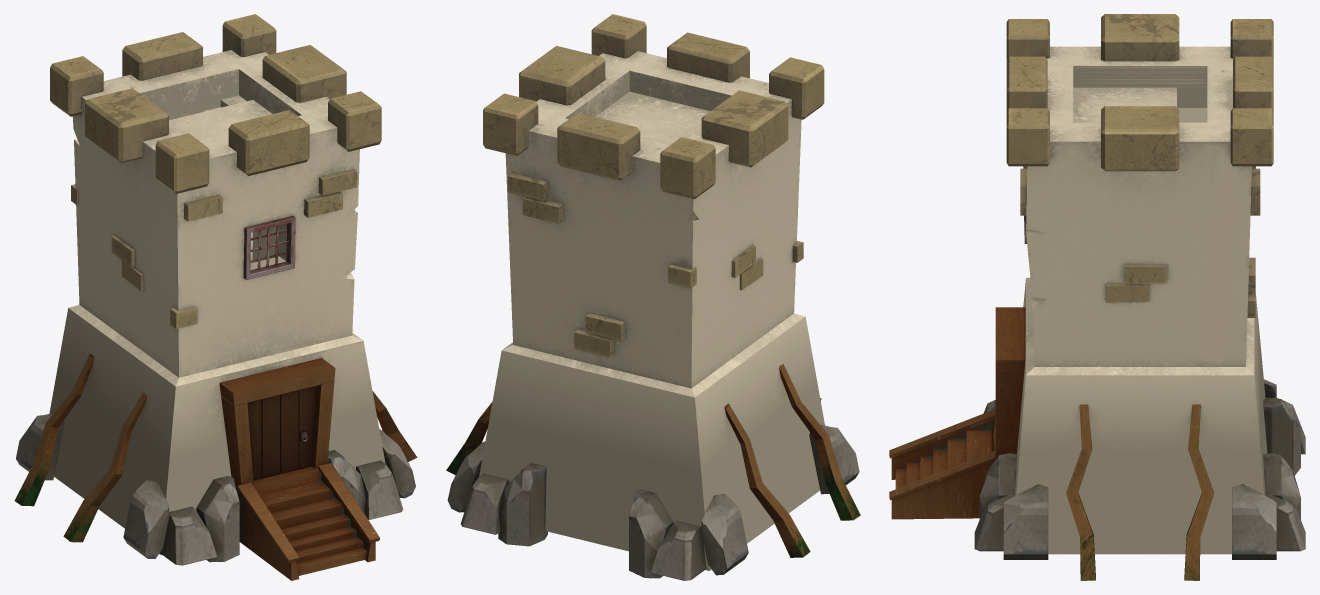
The model's file is TowerLvl1.glb.
The picture shows the model from 3 angles, left to right: view 1: azimuth 30°, elevation 25°; view 2: azimuth 150°, elevation 25°; view 3: azimuth 270°, elevation 25°; orthographic projection. The views are drawn at different scales.
Parts seen in each view (by area): view 1: Cube_084; view 2: Cube_084; view 3: Cube_084.
Boxes of the visible parts, box(x1,y1,x2,y2) form: Cube_084: box(14, 14, 417, 580); Cube_084: box(446, 14, 860, 580); Cube_084: box(889, 14, 1305, 580).
Size of the model in its own units: 5.48 by 6.13 by 5.37.
1 material, 1 textured.
